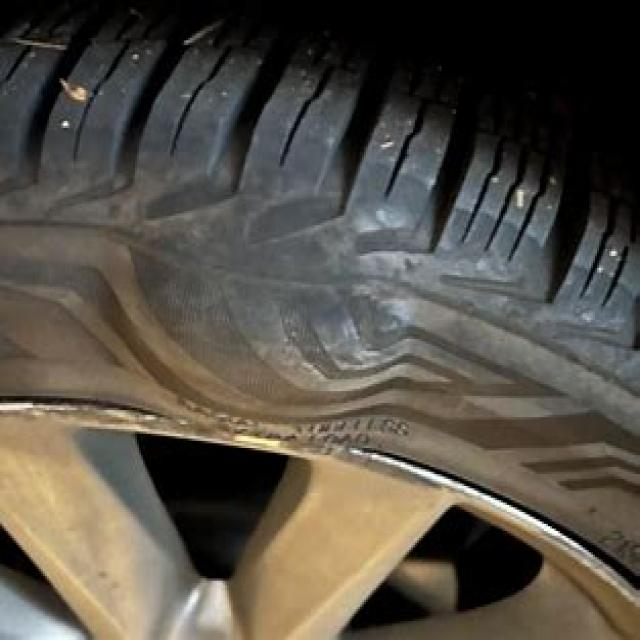Bulge: (90, 154, 443, 460)
